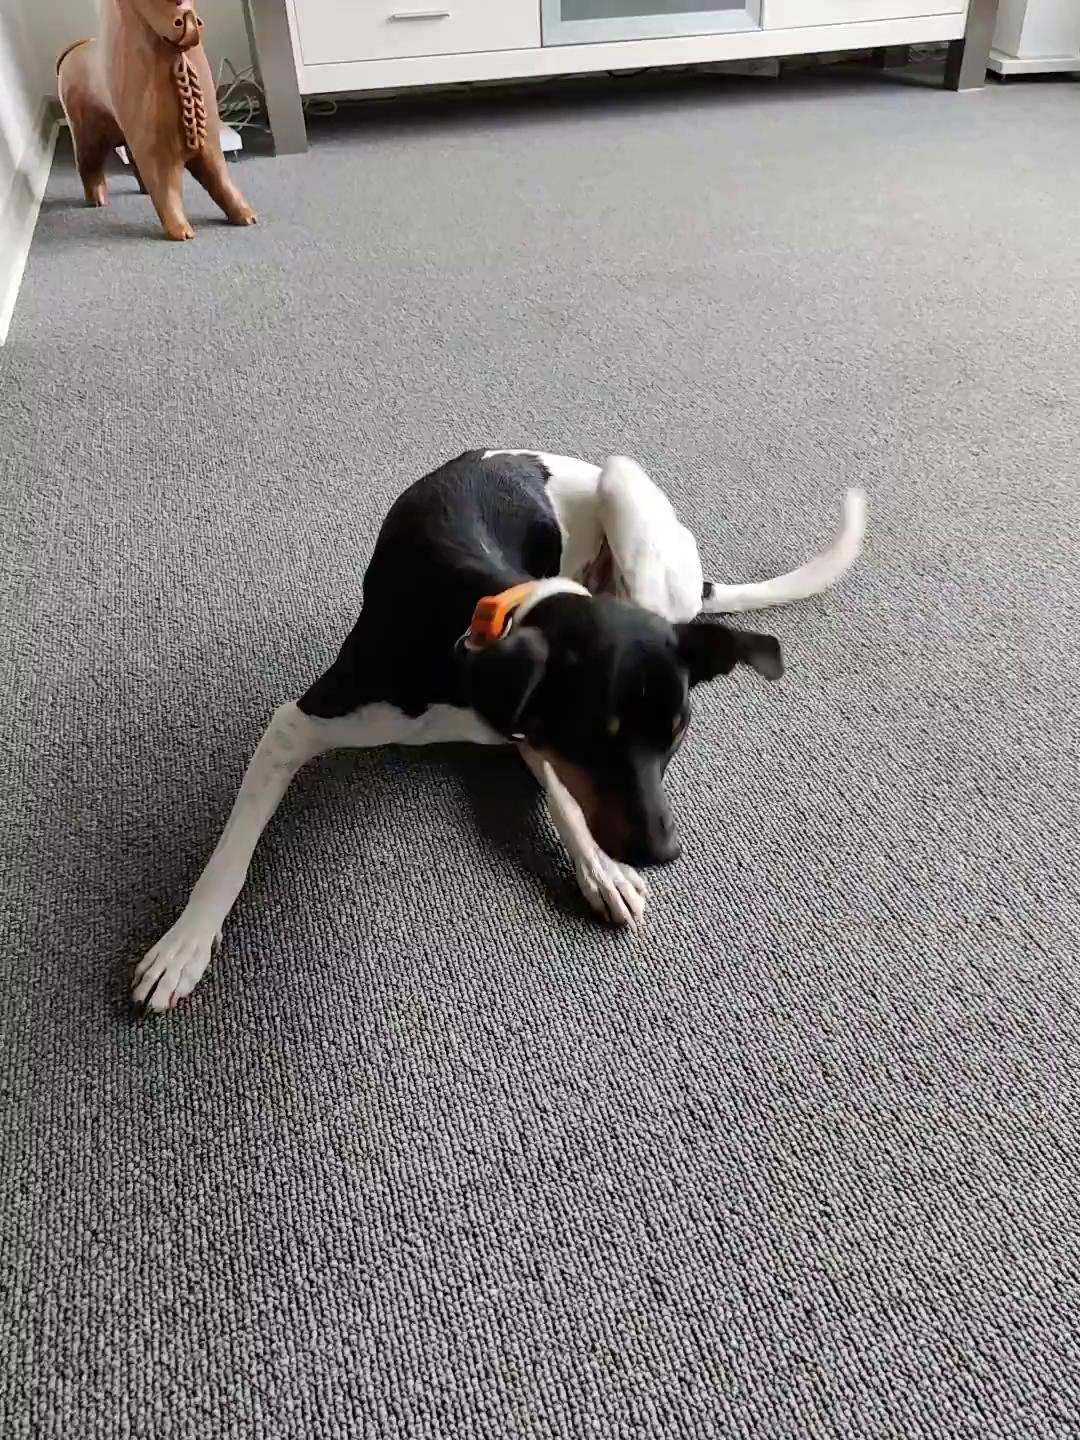Dog: (110, 438, 891, 1031)
